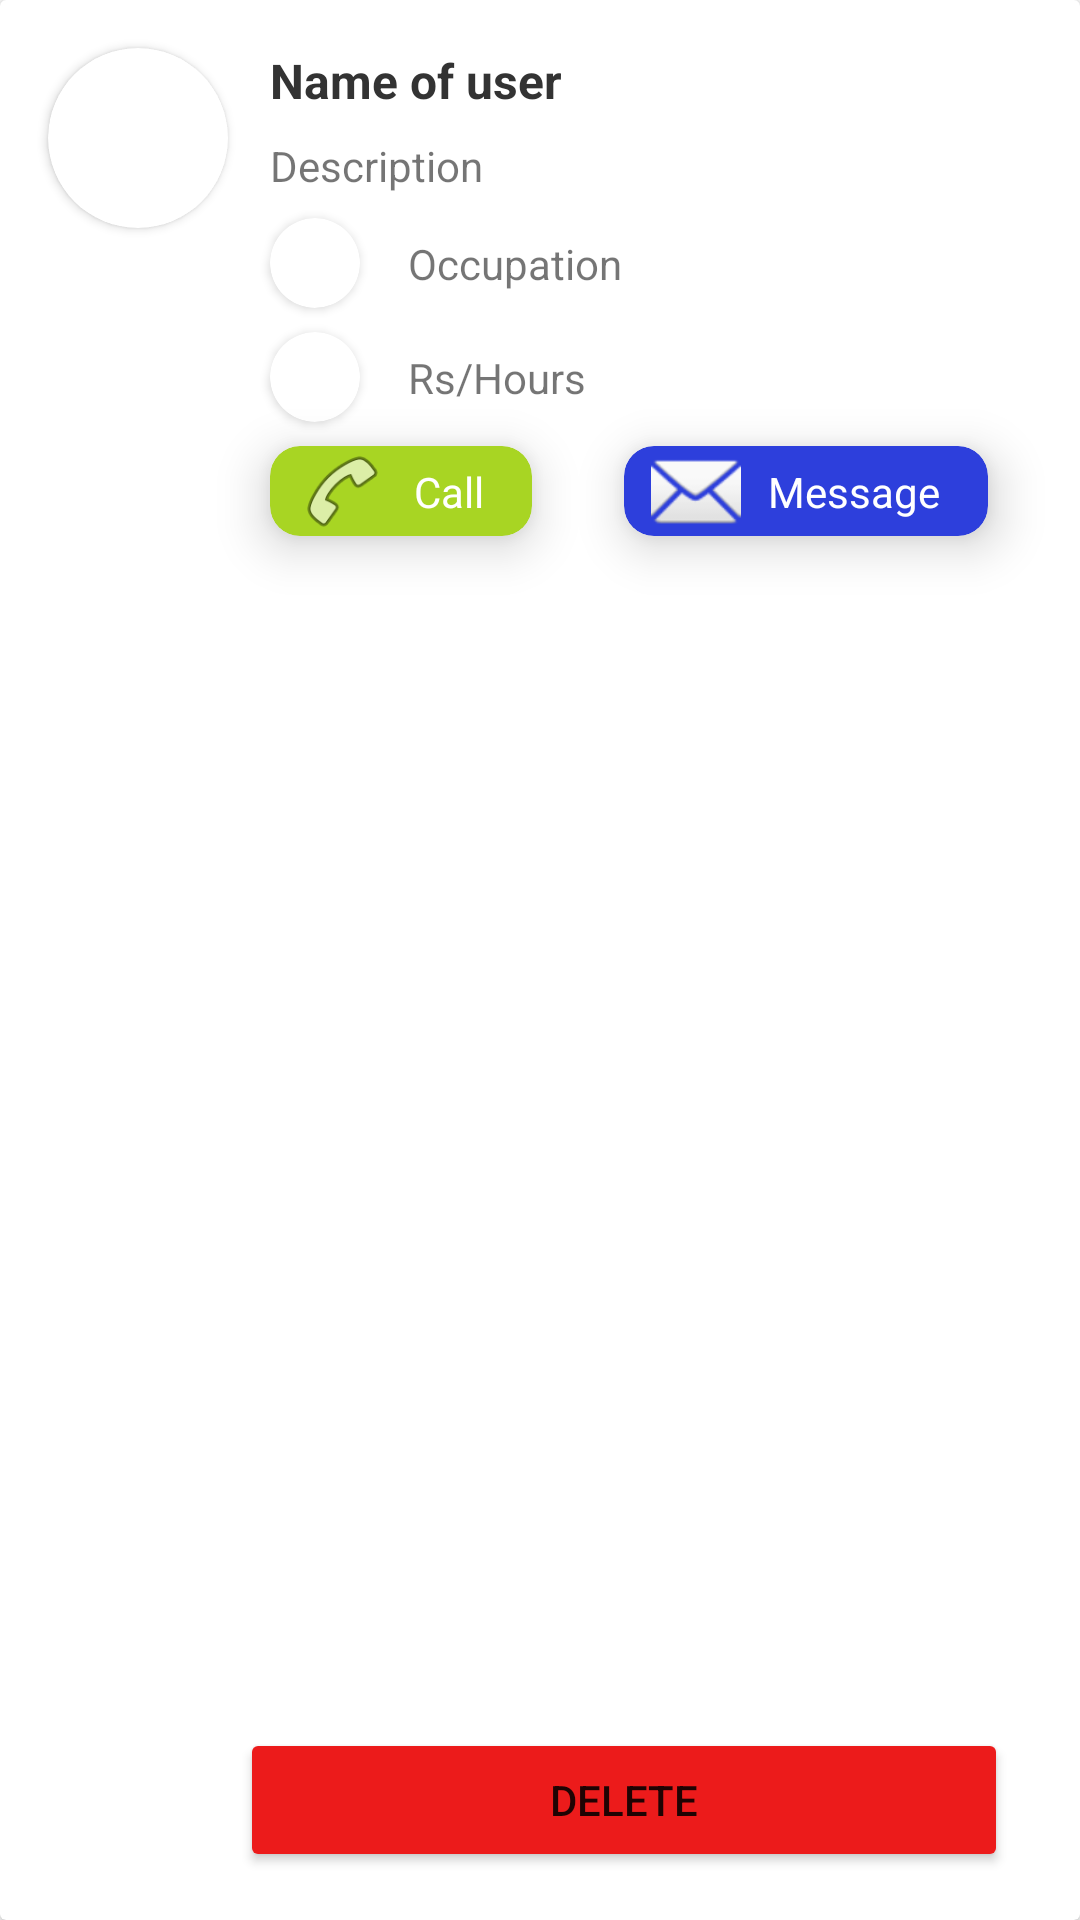

Point at icon controls on the screen. Image size 1080*1920, points as [x,y].
email: [696,492]
